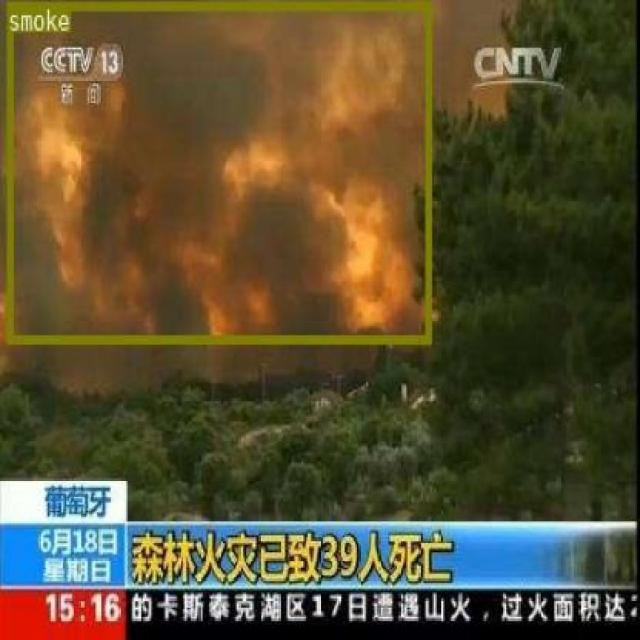Smoke: (5, 1, 430, 344)
